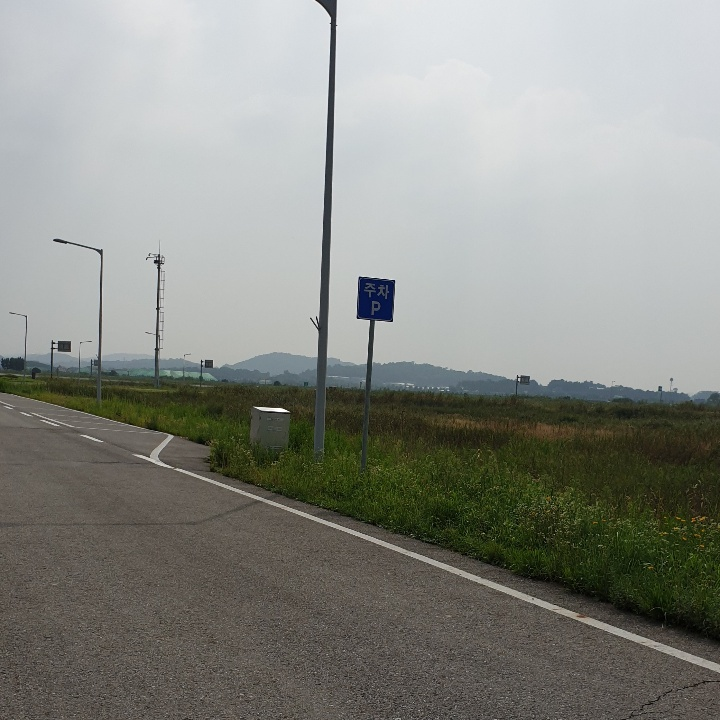parking: (367, 296, 382, 318)
